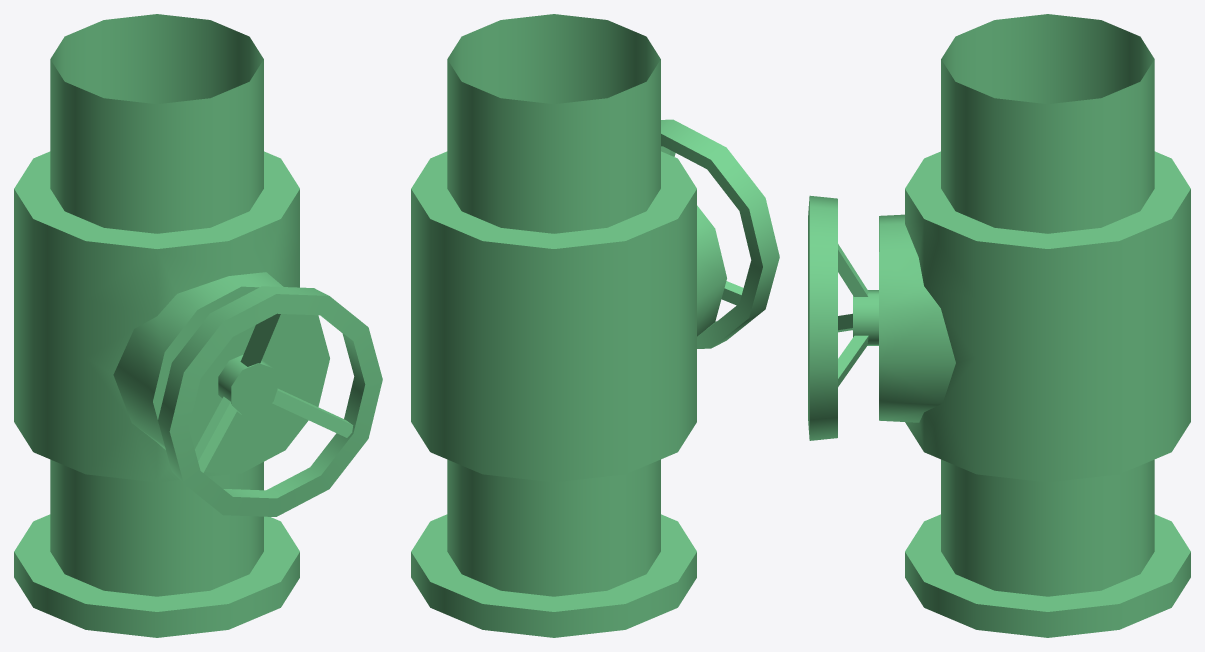
Rendered from Pipe_Basic_2Way_Valve.fbx.
3 renders of one model, left to right at view 1: azimuth 30°, elevation 25°; view 2: azimuth 150°, elevation 25°; view 3: azimuth 270°, elevation 25°, orthographic.
Parts seen in each view (by area): view 1: Pipe_Basic_2Way_Valve; view 2: Pipe_Basic_2Way_Valve; view 3: Pipe_Basic_2Way_Valve.
Boxes of the visible parts, box(x1,y1,x2,y2) form: Pipe_Basic_2Way_Valve: box(14, 14, 382, 637); Pipe_Basic_2Way_Valve: box(411, 14, 779, 637); Pipe_Basic_2Way_Valve: box(808, 14, 1190, 637).
Bounding box in the file's own units: 75 × 150 × 100.
